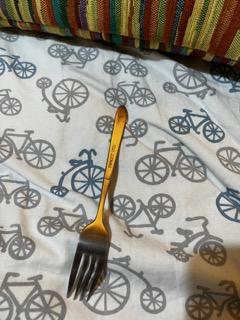fork: (65, 104, 130, 303)
